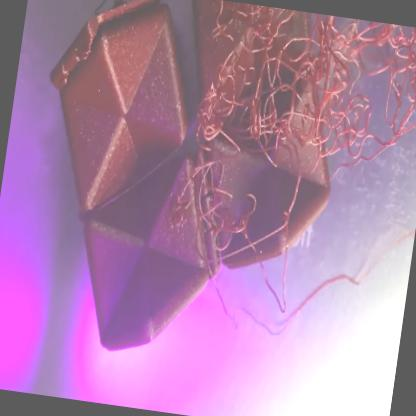fail: (317, 16, 416, 163)
